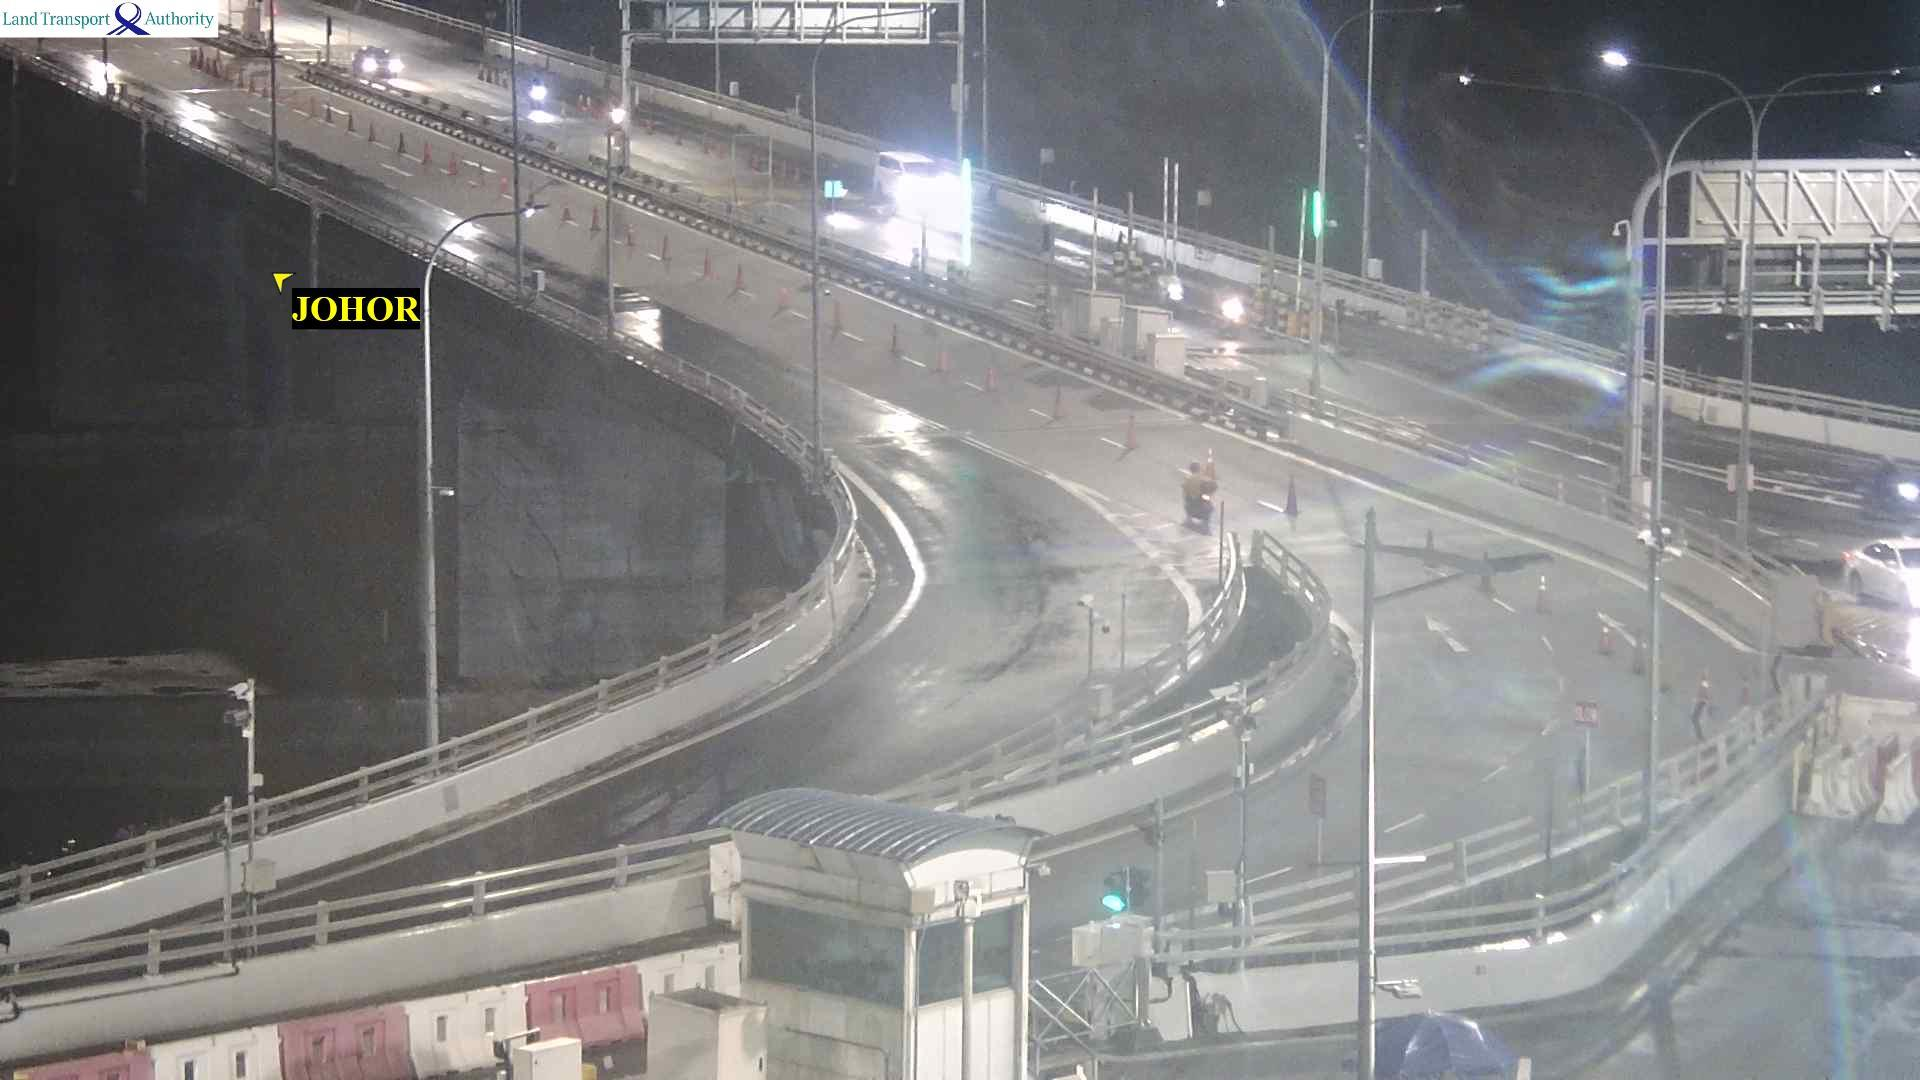vehicle-secondlink-singapore: (1845, 527, 1920, 606), (877, 145, 930, 201), (1179, 466, 1220, 520)
